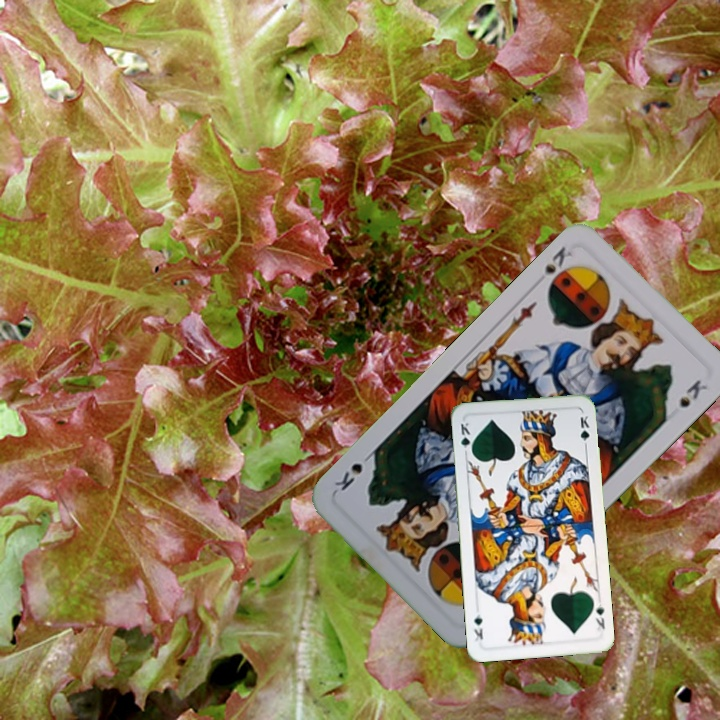GK: (456, 418, 475, 458), (591, 599, 607, 635)
SK: (531, 242, 577, 294)
